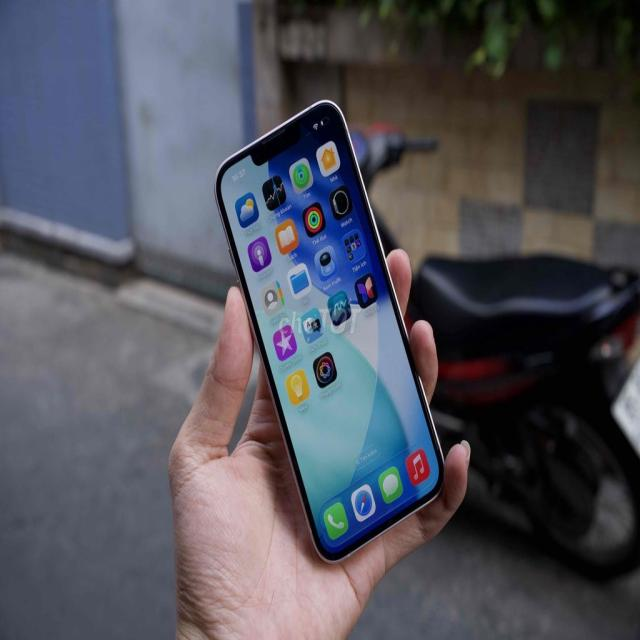gen_17: (211, 90, 453, 564)
